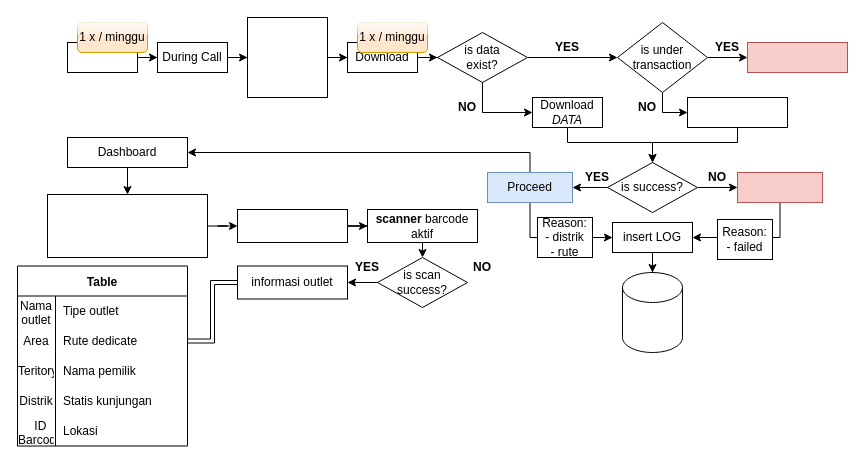
The diagram is 865 pixels wide and 464 high, and some of its shapes have lost their labels. The shapes that lost their labels are listed below. From the top down, each one's centre as x and y in pixels, then its label:
pixel 102 57: Login
pixel 287 57: Menu -Dashboard -Down/Up -Logout
pixel 797 57: disable Download
pixel 737 112: Download and replace DATA
pixel 779 187: re -download
pixel 127 226: - UI menampilkan status - UI menampilkan data Target dan pencapaian TMC
pixel 292 225: mulai kunjungan
pixel 652 312: db.log
